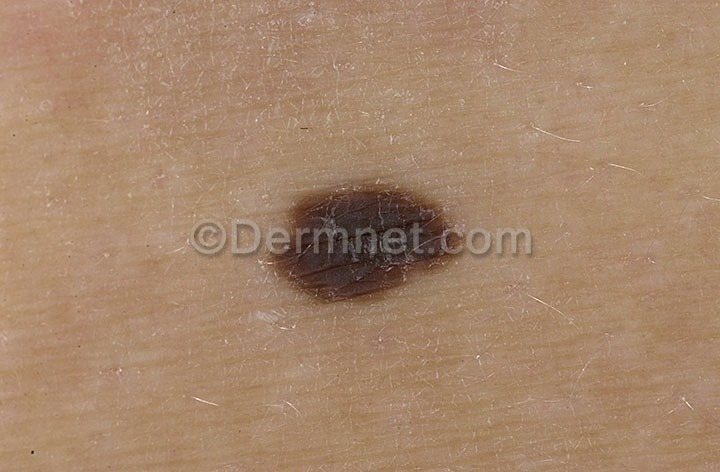Melasma: (268, 162, 474, 230), (262, 256, 479, 311)
